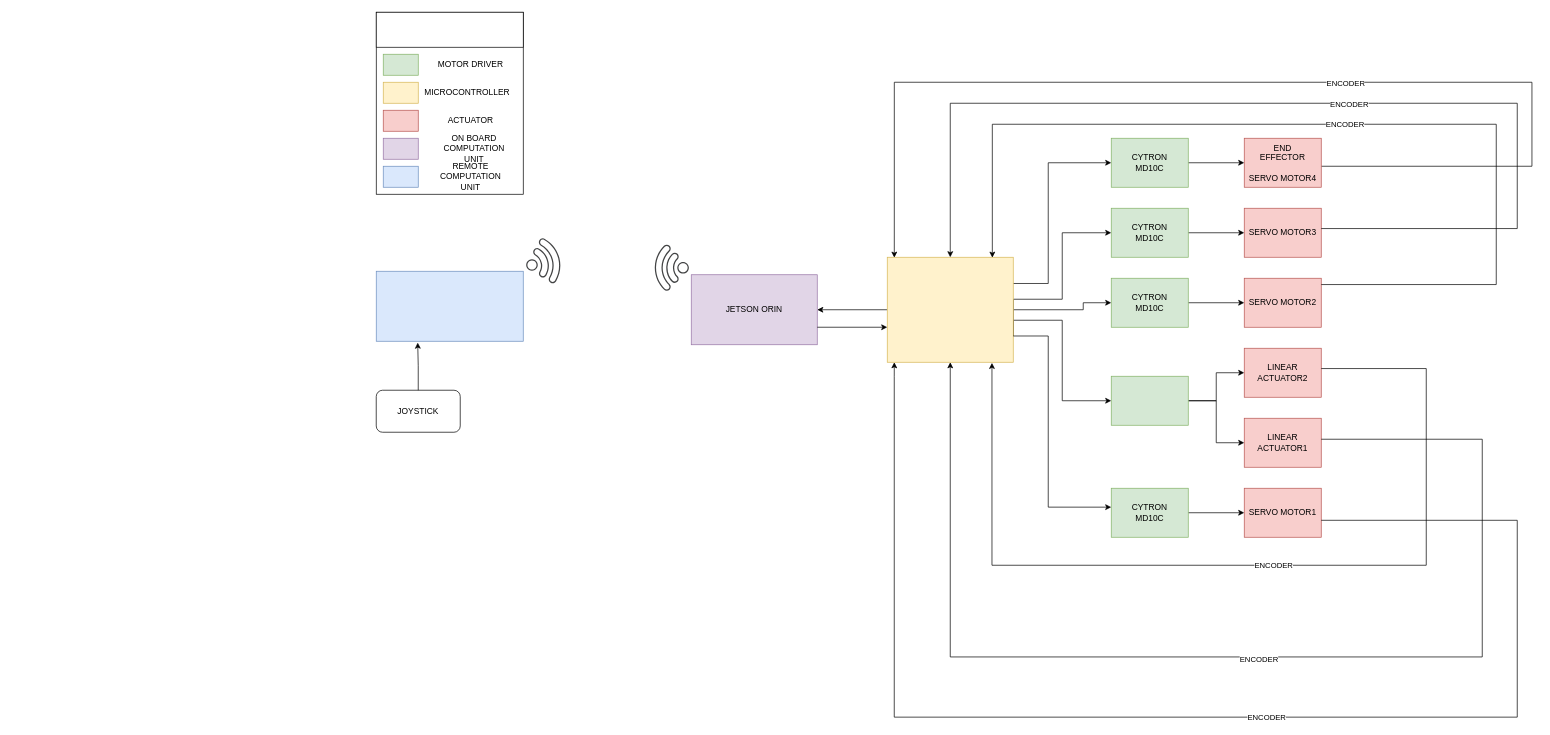
The diagram is 1550 pixels wide and 735 high, and some of its shapes have lost their labels. The shapes that lost their labels are listed below. From the top down, each one's centre as x and y in pixels, then its label:
(449,29): KEY
(449,306): REMOTE PC
(950,309): STM32F401CC
(1149,400): 2 PHASE ZK5AD
